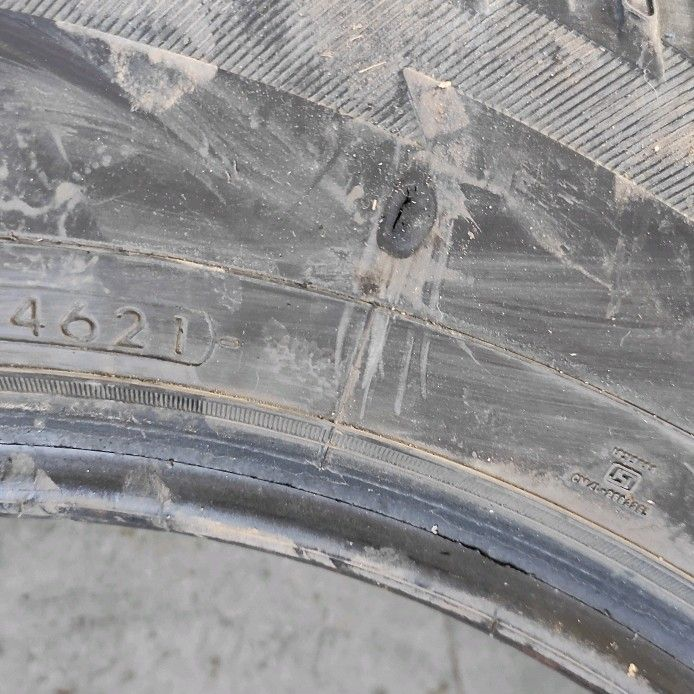cut: (371, 165, 433, 257)
